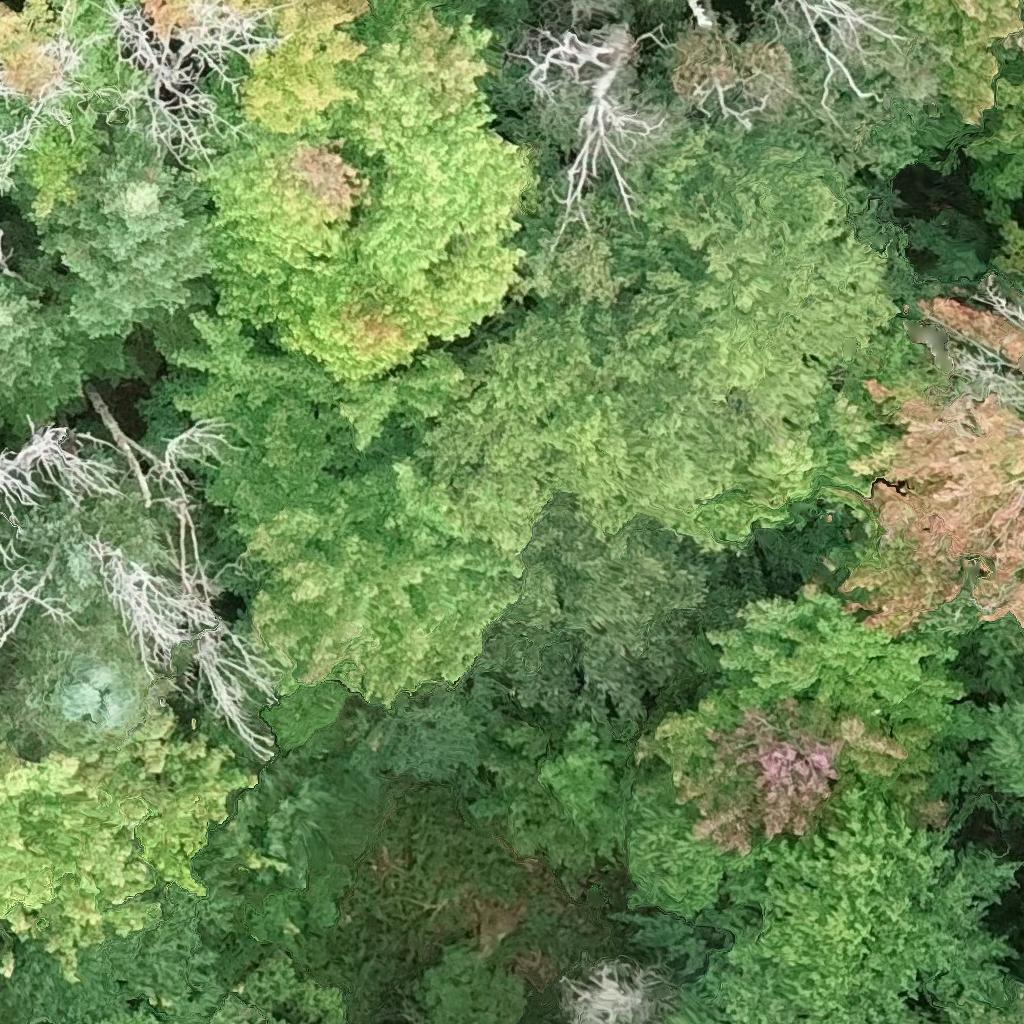crown: (417, 125, 904, 548), (154, 310, 547, 752), (626, 770, 1020, 1023), (636, 585, 972, 856), (814, 211, 1023, 635), (312, 0, 538, 340), (0, 709, 258, 983), (86, 389, 276, 757), (0, 0, 276, 214), (183, 61, 373, 329), (42, 129, 217, 337), (0, 460, 182, 657), (505, 19, 697, 188), (759, 0, 945, 168), (0, 224, 124, 445), (471, 716, 649, 868), (622, 751, 777, 915), (0, 630, 181, 759), (267, 255, 431, 380), (227, 0, 369, 137), (891, 0, 1023, 121), (671, 4, 798, 119), (0, 423, 122, 522), (960, 659, 1023, 825), (965, 27, 1023, 199), (557, 957, 679, 1023), (107, 983, 279, 1023), (898, 977, 1023, 1023), (576, 0, 685, 18), (660, 984, 709, 1023), (447, 0, 527, 17)
